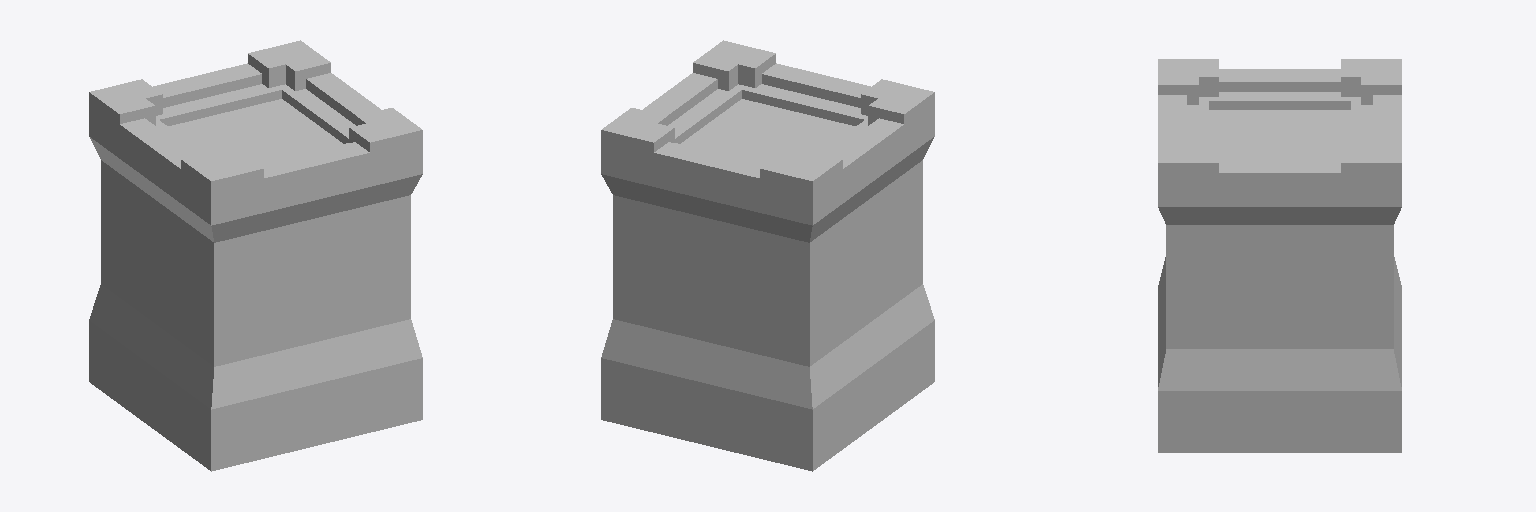
File: towerSquare.obj
3 views of the same model, side by side, from view 1: azimuth 30°, elevation 25°; view 2: azimuth 150°, elevation 25°; view 3: azimuth 270°, elevation 25° (orthographic).
Visible parts, largest first — view 1: towerSquare; view 2: towerSquare; view 3: towerSquare.
Boxes of the visible parts, x1,y1,x2,y2 form: towerSquare: [89, 40, 422, 471]; towerSquare: [601, 40, 934, 471]; towerSquare: [1158, 59, 1401, 452].
Size of the model in its own units: 10 by 13.1 by 10.